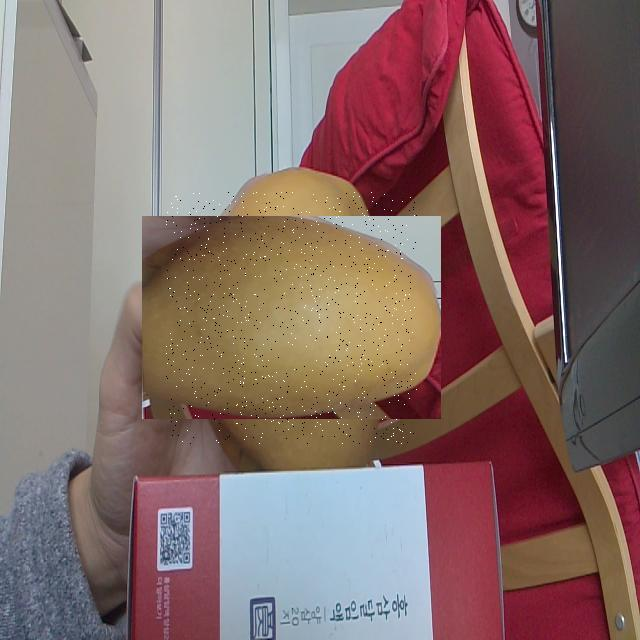pear: (166, 192, 417, 444)
